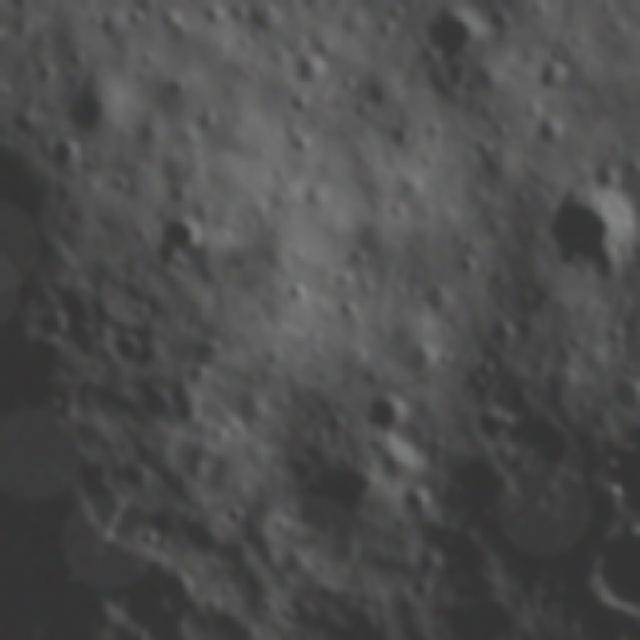crater: (282, 462, 396, 582), (137, 205, 228, 288), (574, 521, 640, 625), (545, 201, 621, 284), (346, 376, 420, 449), (414, 0, 494, 65), (511, 103, 578, 152), (369, 118, 418, 159), (604, 370, 640, 424)
